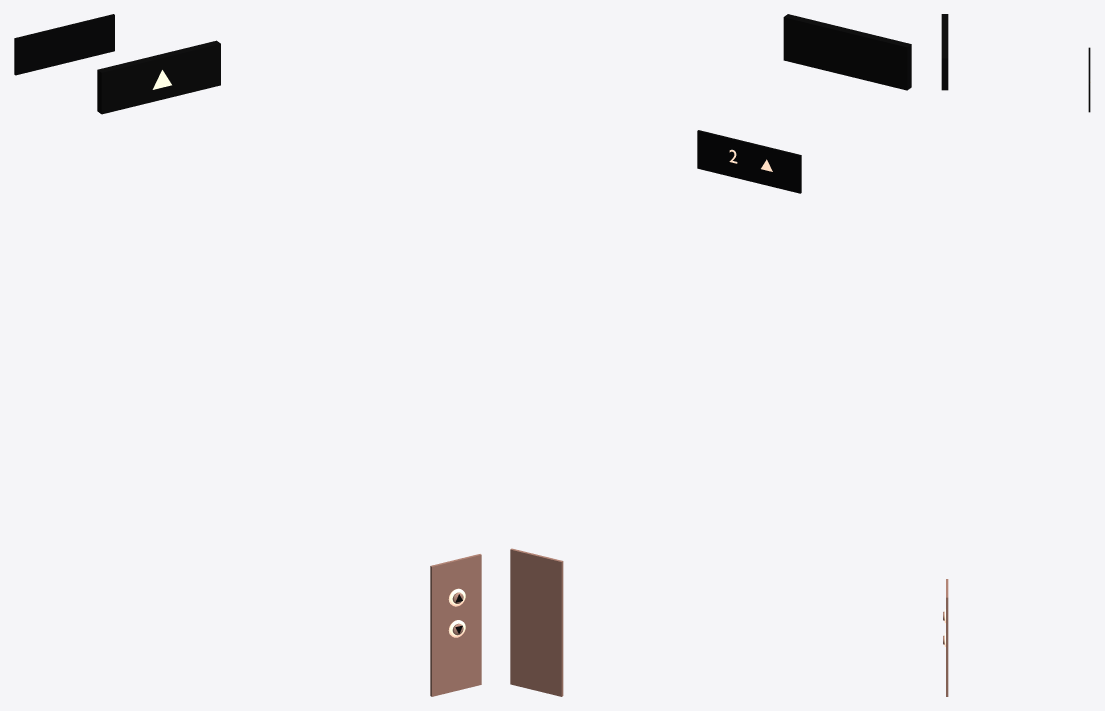
The model's file is hall_rose.glb.
3 views of the same model, side by side, from view 1: azimuth 30°, elevation 25°; view 2: azimuth 150°, elevation 25°; view 3: azimuth 270°, elevation 25° (orthographic). The views are drawn at different scales.
Parts seen in each view (by area): view 1: Call_Plate, Hall_Lantern, Indicator_Glass; view 2: Call_Plate, Hall_Lantern, Indicator_Glass; view 3: Hall_Lantern, Call_Plate.
Boxes of the visible parts, x1,y1,x2,y2 form: Call_Plate: (430,554,481,696); Hall_Lantern: (97,40,220,114); Indicator_Glass: (14,14,114,75); Call_Plate: (510,548,563,696); Hall_Lantern: (783,14,911,90); Indicator_Glass: (697,130,801,193); Hall_Lantern: (941,14,948,90); Call_Plate: (946,579,948,696).
Size of the model in its own units: 0.77 by 1.36 by 0.3434.
